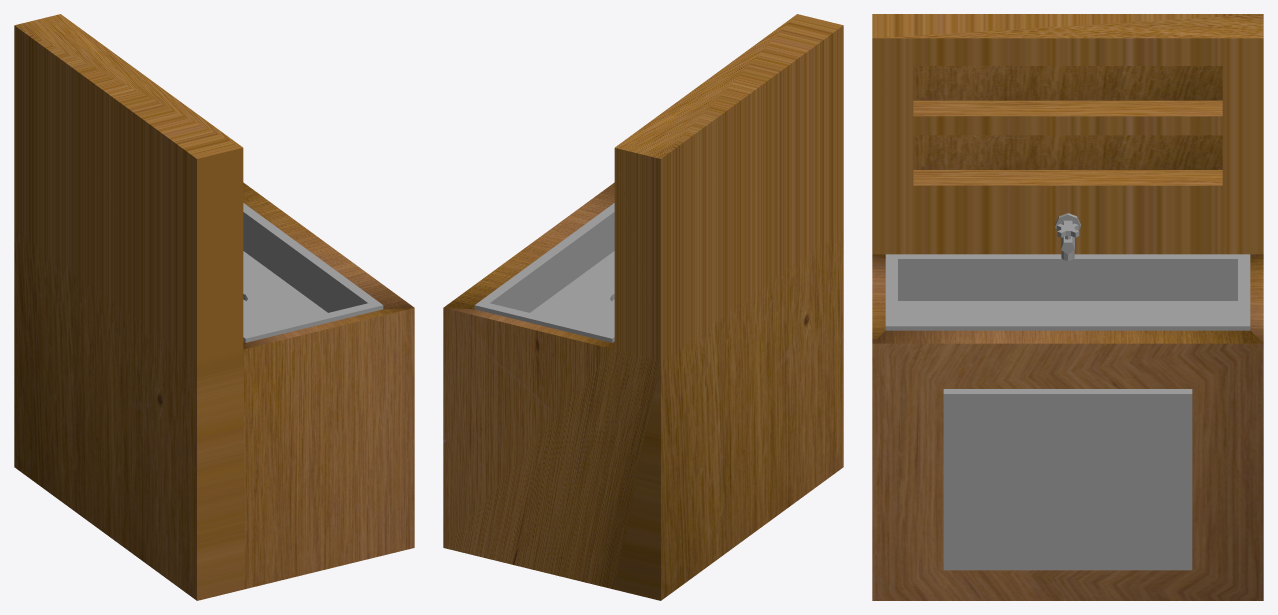
Rendered from Pia.fbx.
3 views of the same model, side by side, from view 1: azimuth 30°, elevation 25°; view 2: azimuth 150°, elevation 25°; view 3: azimuth 270°, elevation 25° (orthographic). The views are drawn at different scales.
Parts seen in each view (by area): view 1: pCylinder12; view 2: pCylinder12; view 3: pCylinder12.
Part boxes in pixels (x1,y1,x2,y2): pCylinder12: (14,14,414,600); pCylinder12: (443,14,843,600); pCylinder12: (872,14,1263,600).
Size of the model in its own units: 1.98 by 3.68 by 2.76.
2 materials, 1 textured.
